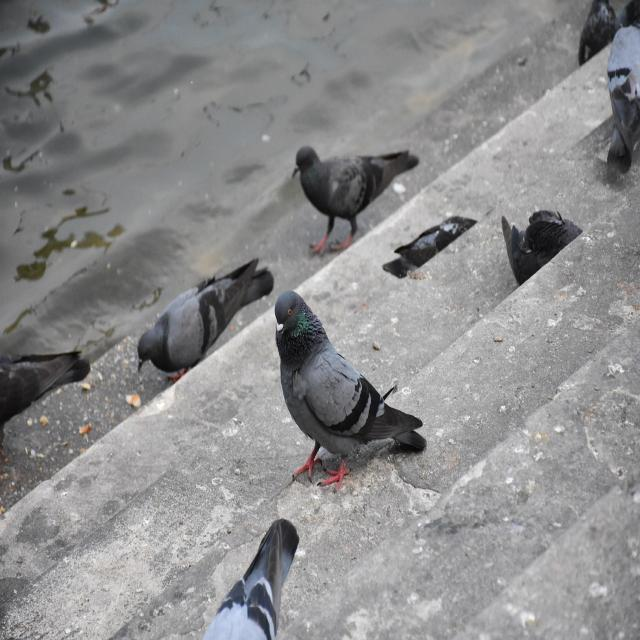pegion: (276, 283, 424, 484), (288, 130, 410, 257), (129, 262, 263, 362), (606, 4, 640, 156)
